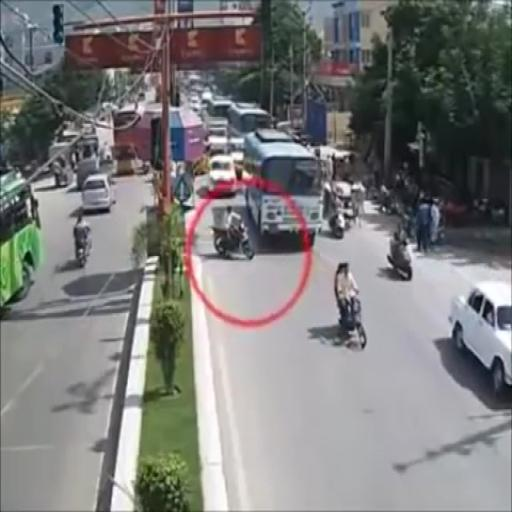小汽车: (245, 136, 319, 246), (80, 173, 115, 212), (211, 156, 238, 195)
自行车: (334, 260, 370, 347), (212, 207, 254, 262), (385, 225, 415, 279), (72, 211, 90, 266)
